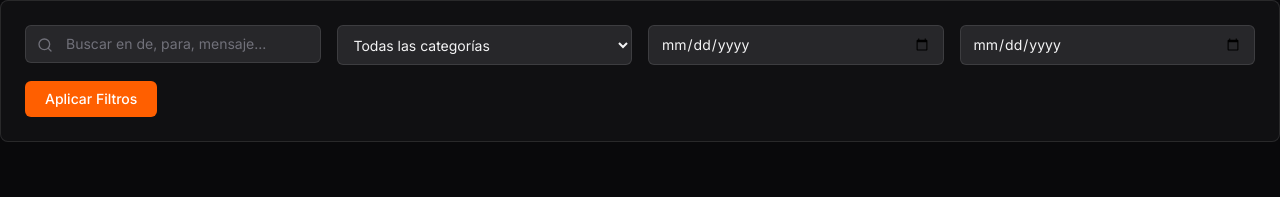
Test: KudoFilters › muestra error si startDate > endDate
The image size is (1280, 197).
Type "2026-03-01" into the date field named "Fecha desde".
click(796, 45); type("2026-03-01")  # box [648,25,944,65]
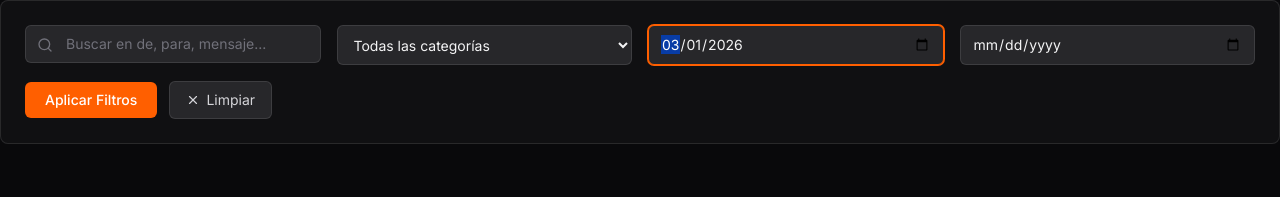
Type "2026-02-01" into the date field named "Fecha hasta".
click(1107, 45); type("2026-02-01")  # box [960,25,1255,65]
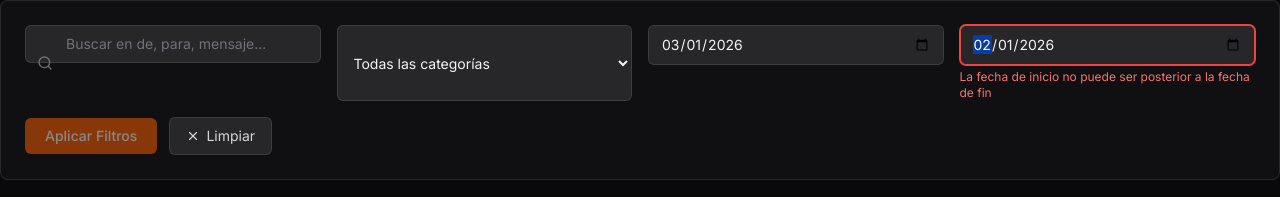
Check: the message "La fecha de inicio no puede ser posterior a la fecha de fin" is shown, box [960,69,1255,101]
